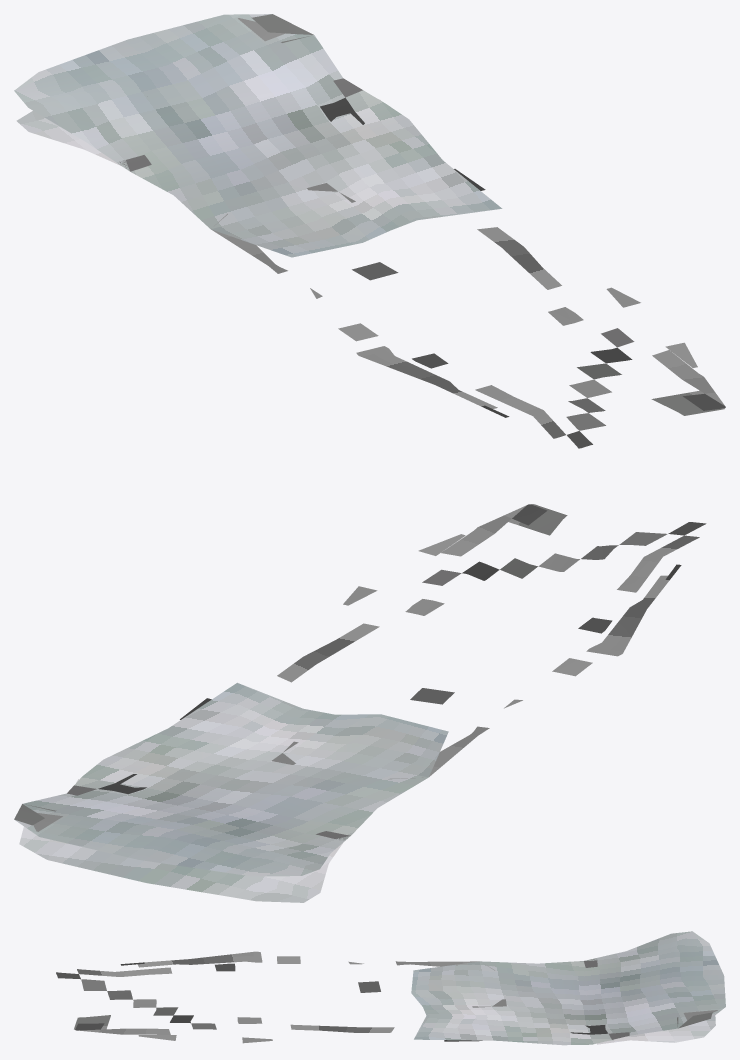
File: vanilla_effects_fxrapidsfallsline01-ca9177e2.glb
3 views of the same model, one above another, from view 1: azimuth 30°, elevation 25°; view 2: azimuth 150°, elevation 25°; view 3: azimuth 270°, elevation 25° (orthographic). The views are drawn at different scales.
Visible parts, largest first — view 1: es|FXrapidsFallsTop06, es|FXrapidsFallsTop09, es|FXrapidsFallsTop08; view 2: es|FXrapidsFallsTop06, es|FXrapidsFallsTop09, es|FXrapidsFallsTop08; view 3: es|FXrapidsFallsTop06, es|FXrapidsFallsTop09, es|FXrapidsFallsTop08.
Part boxes in pixels (bbox=[...]): es|FXrapidsFallsTop06: bbox=[14, 14, 502, 257]; es|FXrapidsFallsTop09: bbox=[238, 18, 725, 448]; es|FXrapidsFallsTop08: bbox=[118, 14, 724, 415]; es|FXrapidsFallsTop06: bbox=[14, 682, 448, 902]; es|FXrapidsFallsTop09: bbox=[33, 504, 706, 831]; es|FXrapidsFallsTop08: bbox=[14, 504, 669, 840]; es|FXrapidsFallsTop06: bbox=[411, 931, 725, 1045]; es|FXrapidsFallsTop09: bbox=[56, 952, 717, 1039]; es|FXrapidsFallsTop08: bbox=[74, 951, 712, 1043].
Bounding box in the file's own units: 5.11 × 0.5344 × 16.06.
3 materials, 3 textured.
